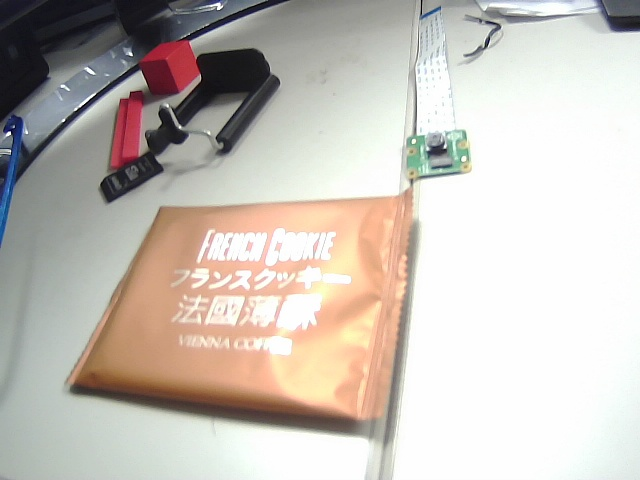frenchcookie: (64, 184, 433, 444)
